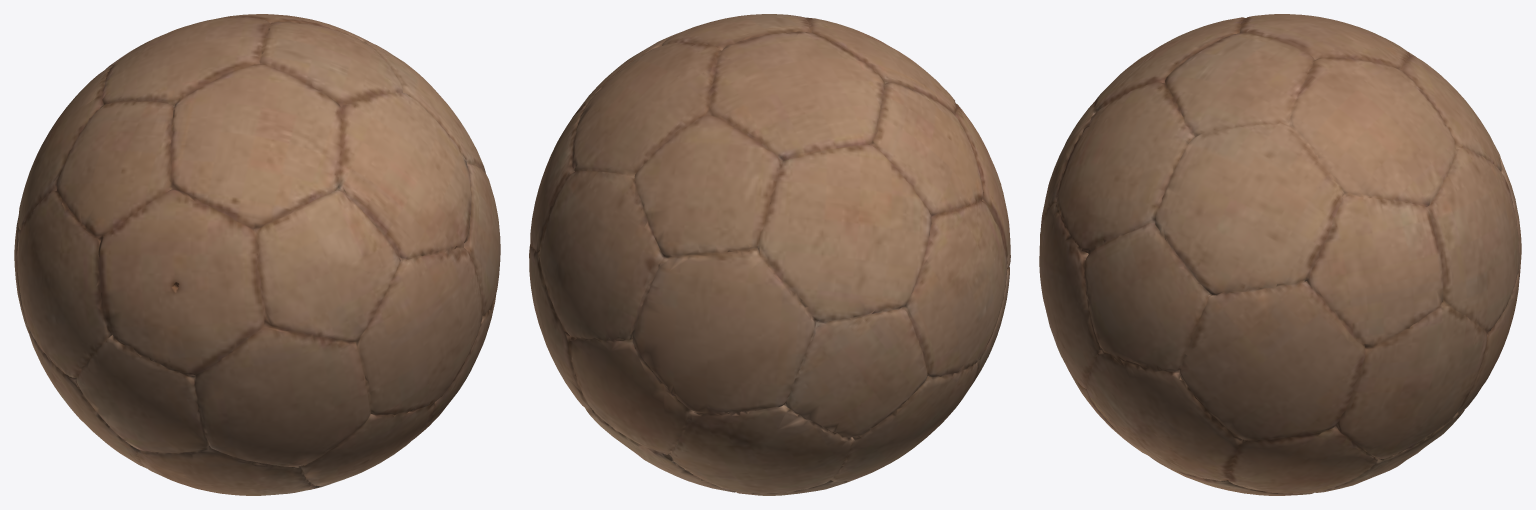
File: football.glb
The picture shows the model from 3 angles, left to right: view 1: azimuth 30°, elevation 25°; view 2: azimuth 150°, elevation 25°; view 3: azimuth 270°, elevation 25°; orthographic projection.
Parts seen in each view (by area): view 1: dirty_football; view 2: dirty_football; view 3: dirty_football.
Part boxes in pixels (x1,y1,x2,y2): dirty_football: [14, 14, 500, 495]; dirty_football: [529, 14, 1010, 495]; dirty_football: [1039, 14, 1521, 495].
Size of the model in its own units: 0.2213 by 0.22 by 0.2199.
1 material, 1 textured.
